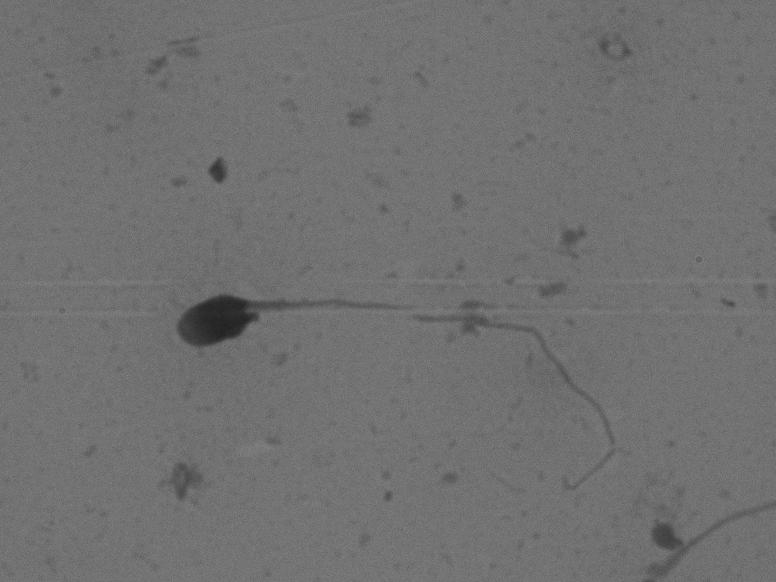Abnormal: (138, 232, 642, 493)
